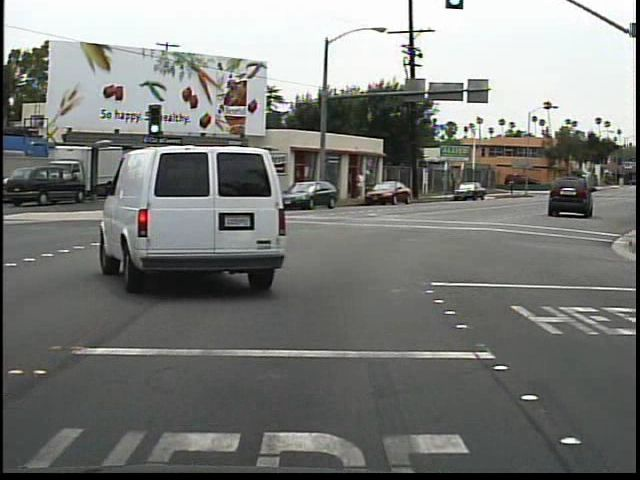person: (351, 167, 366, 201), (506, 175, 518, 199)
